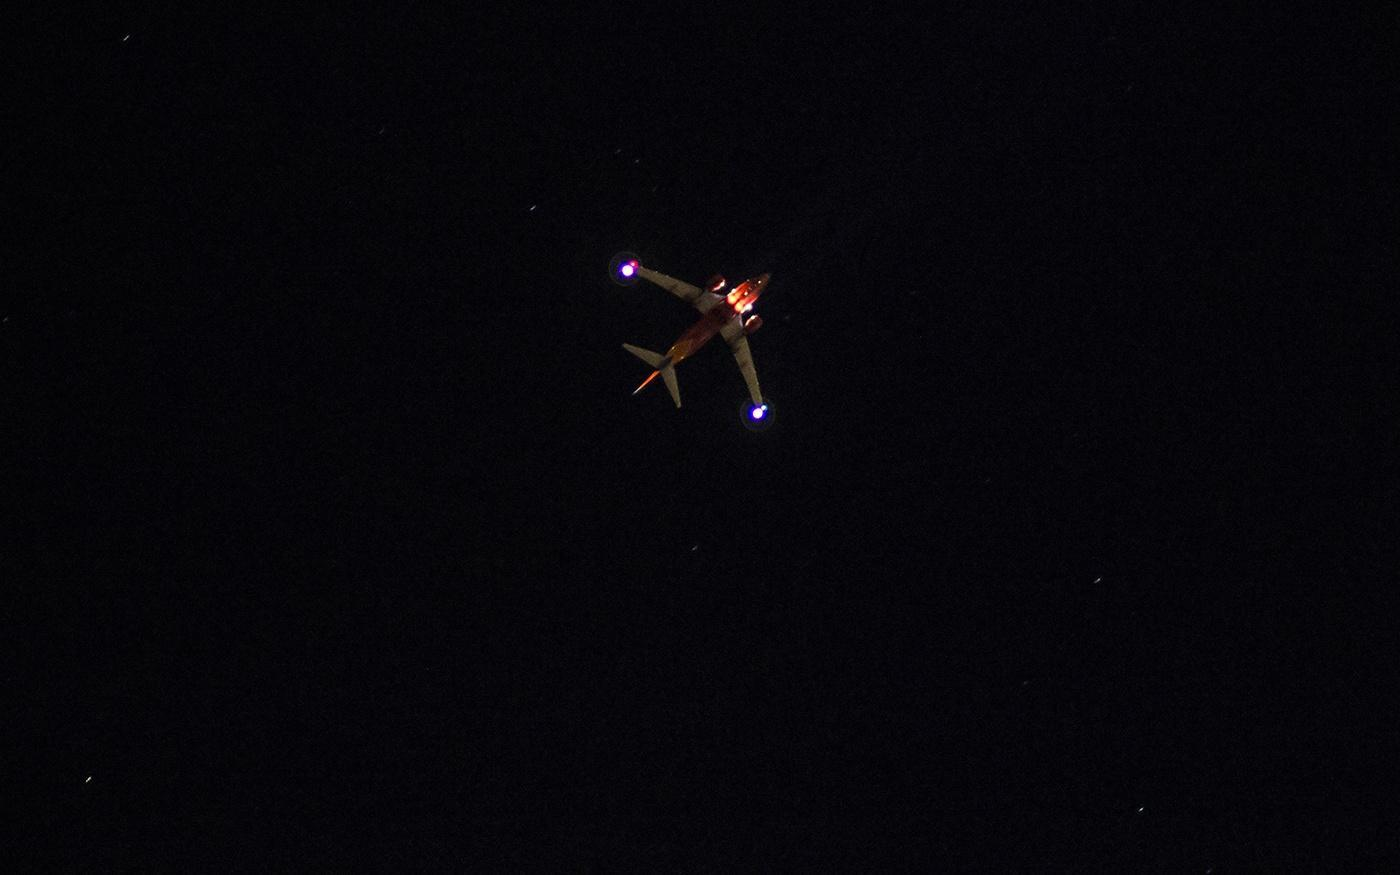Plane: (574, 209, 829, 442)
